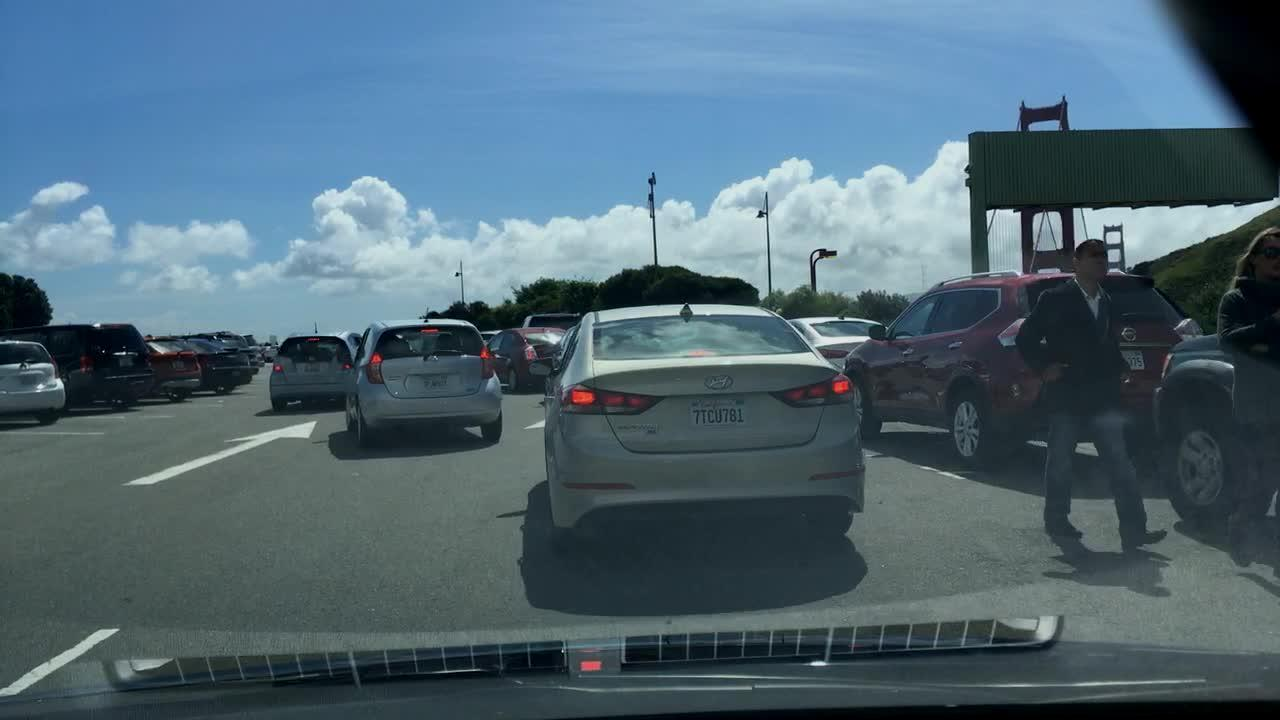Hyundai: (703, 368, 739, 396)
Nissan: (1119, 323, 1145, 346)
